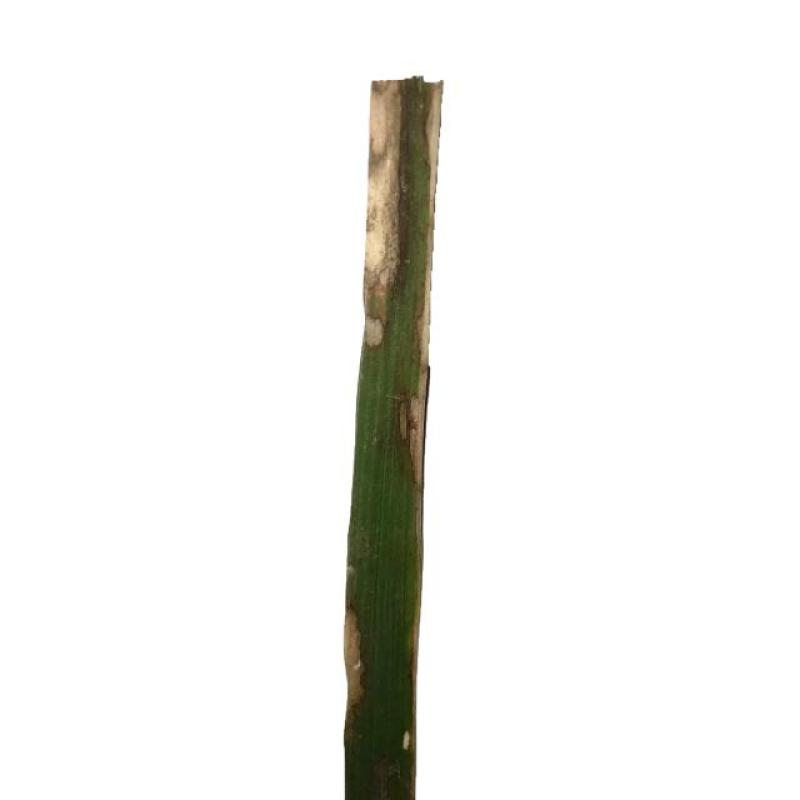Bacterial_Leaf_Blight: (364, 80, 408, 349), (398, 322, 428, 496), (334, 590, 382, 691)
